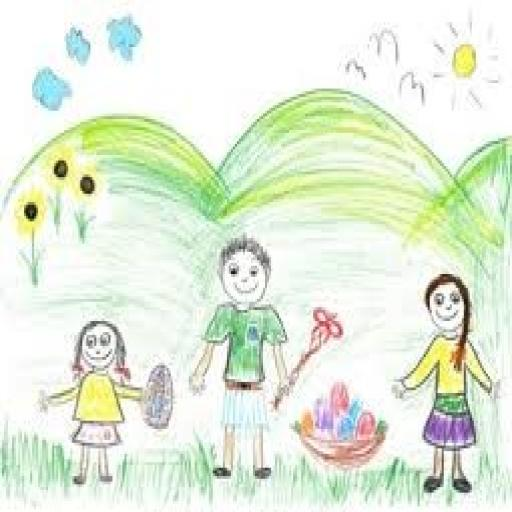person: (187, 228, 291, 488), (390, 270, 496, 501), (35, 312, 150, 496)
